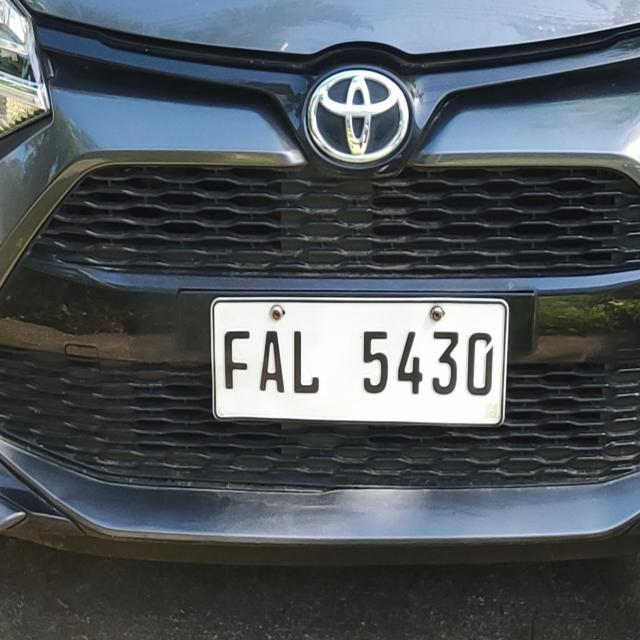LicensePlate: (204, 288, 514, 436)
